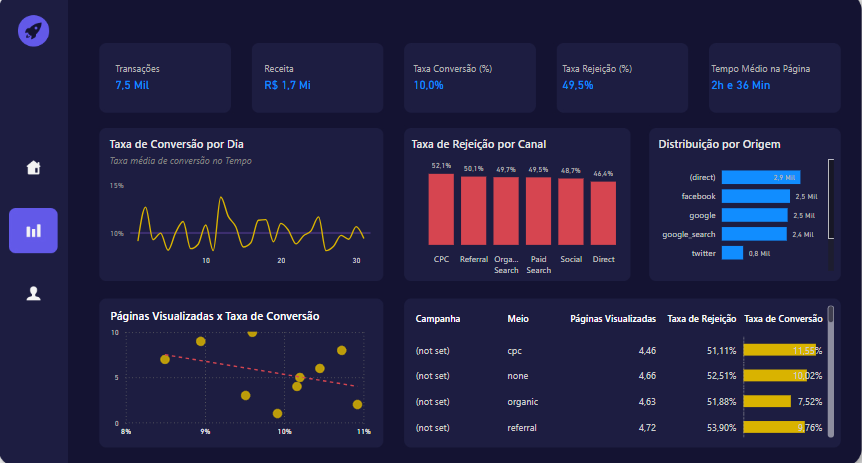

The dashboard page shown, as its layout file describes it:
{"tool":"powerbi","page":{"name":"Overview","canvas":[1280,720],"ordinal":1},"visuals":[{"type":"cardVisual","fields":{"Data":["Medidas.Transações","Medidas.Receita","Medidas.Taxa Conversão (%)","Medidas.Taxa Rejeição (%)","Marketing.Tempo Médio na Página"]},"box":[176.6,80.2,1050.4,110.4],"z":0},{"type":"tableEx","fields":{"Values":["TechTrend_Marketing_Data.campaign","TechTrend_Marketing_Data.medium","Avg(TechTrend_Marketing_Data.page_views)","Avg(TechTrend_Marketing_Data.bounce_rate)","Avg(TechTrend_Marketing_Data.conversion_rate)"]},"box":[608.6,459.3,617.3,200],"z":1000},{"type":"scatterChart","title":"Páginas Visualizadas x Taxa de Conversão","fields":{"X":["Avg(Marketing.conversion_rate)"],"Y":["Marketing.page_views"]},"box":[176.6,468.3,384.6,190.6],"z":2000},{"type":"lineChart","fields":{"Y":["Avg(TechTrend_Marketing_Data.conversion_rate)"],"Category":["TechTrend_Marketing_Data.date.Variation.Hierarquia de datas.Ano","TechTrend_Marketing_Data.date.Variation.Hierarquia de datas.Trimestre","TechTrend_Marketing_Data.date.Variation.Hierarquia de datas.Mês","TechTrend_Marketing_Data.date.Variation.Hierarquia de datas.Dia"]},"box":[175.3,221,385.2,192.6],"z":3000},{"type":"clusteredColumnChart","title":"Taxa de Rejeição por Canal","fields":{"Y":["Avg(TechTrend_Marketing_Data.bounce_rate)"],"Category":["TechTrend_Marketing_Data.channel_grouping"]},"box":[608.6,221,323.5,207.4],"z":4000},{"type":"clusteredBarChart","title":"Distribuição por Origem","fields":{"Category":["TechTrend_Marketing_Data.source"],"Y":["CountNonNull(TechTrend_Marketing_Data.source)"]},"box":[964.2,221,261.7,198.8],"z":5000}]}

Visuals, with their boxes on the page's 1280x720 design canvas (x1, y1, x2, y2). These are canvas units, not pixel positions in the 862x463 screenshot, which may show the page scaled, cropped or inside an application window:
cardVisual - Medidas.Transações x Medidas.Receita: x1=177 y1=80 x2=1227 y2=191
tableEx - TechTrend_Marketing_Data.campaign x TechTrend_Marketing_Data.medium: x1=609 y1=459 x2=1226 y2=659
"Páginas Visualizadas x Taxa de Conversão" scatterChart: x1=177 y1=468 x2=561 y2=659
lineChart - Avg(TechTrend_Marketing_Data.conversion_rate) x TechTrend_Marketing_Data.date.Variation.Hierarquia de datas.Ano: x1=175 y1=221 x2=560 y2=414
"Taxa de Rejeição por Canal" clusteredColumnChart: x1=609 y1=221 x2=932 y2=428
"Distribuição por Origem" clusteredBarChart: x1=964 y1=221 x2=1226 y2=420
